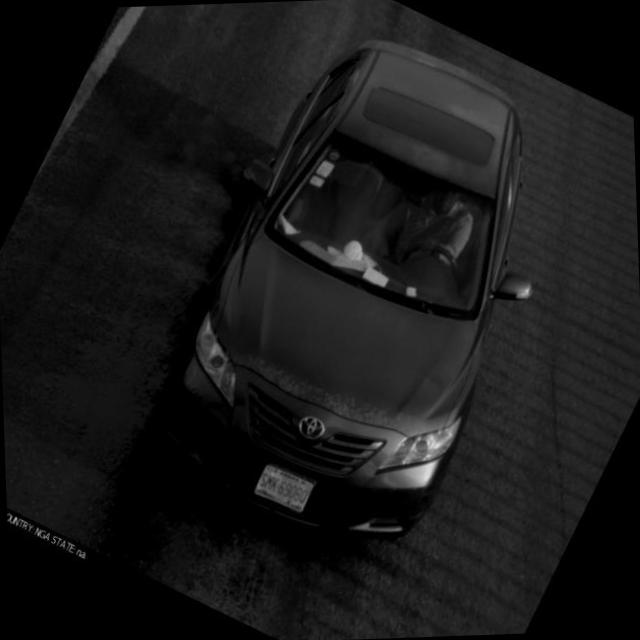person_with_seatbelt: (382, 175, 503, 294)
